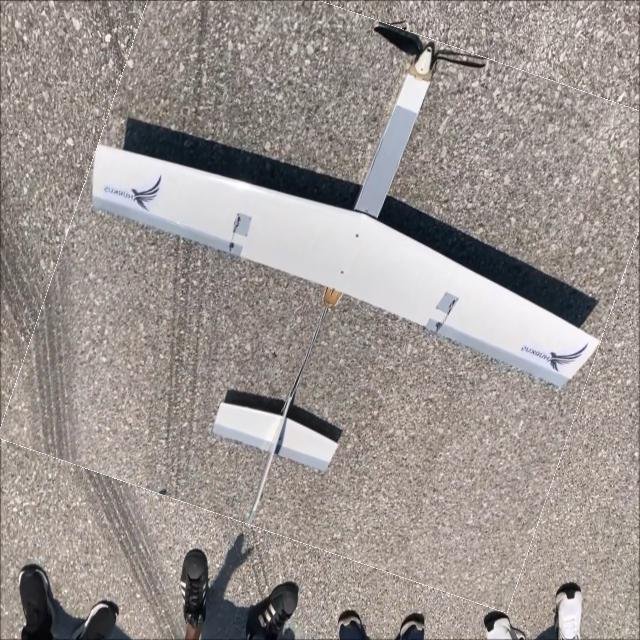UAV: (107, 46, 564, 502)
